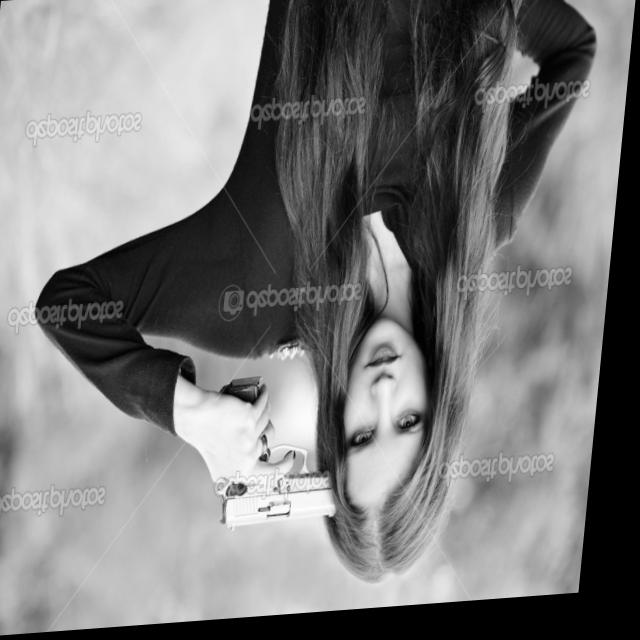handgun: (220, 330, 363, 546)
